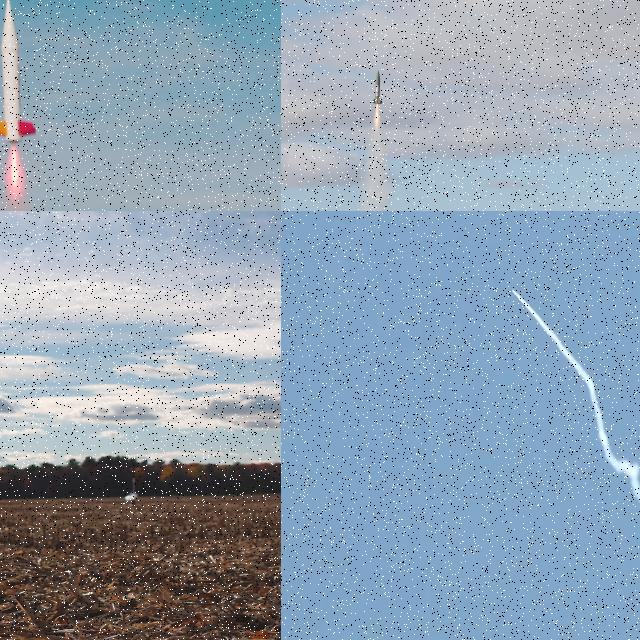Rocket: (0, 0, 37, 144), (372, 70, 383, 105), (132, 477, 136, 495), (510, 286, 513, 291)
